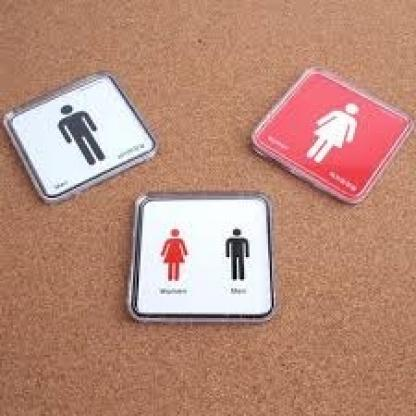toilet: (149, 212, 258, 300)
